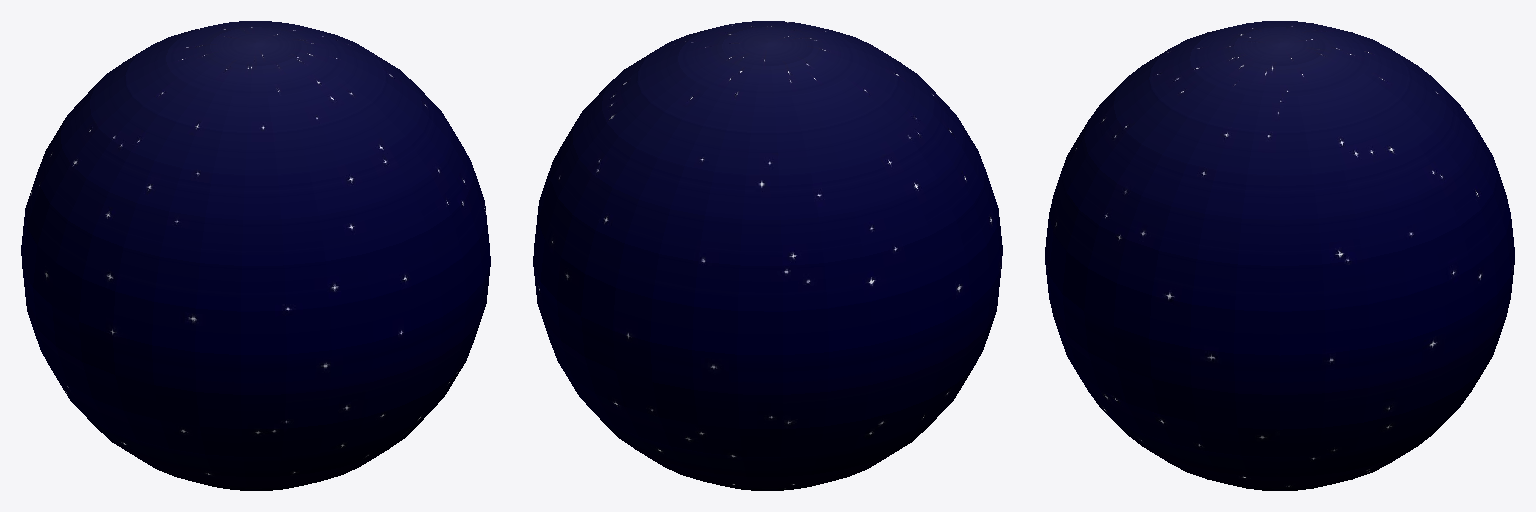
3 views of the same model, side by side, from view 1: azimuth 30°, elevation 25°; view 2: azimuth 150°, elevation 25°; view 3: azimuth 270°, elevation 25° (orthographic).
Parts seen in each view (by area): view 1: 球.001; view 2: 球.001; view 3: 球.001.
Boxes of the visible parts, box(x1,y1,x2,y2) form: 球.001: box(21, 21, 490, 490); 球.001: box(533, 21, 1002, 490); 球.001: box(1045, 21, 1514, 490).
Size of the model in its own units: 96.54 by 96.54 by 96.54.
Materials: 1 (1 with a texture image).